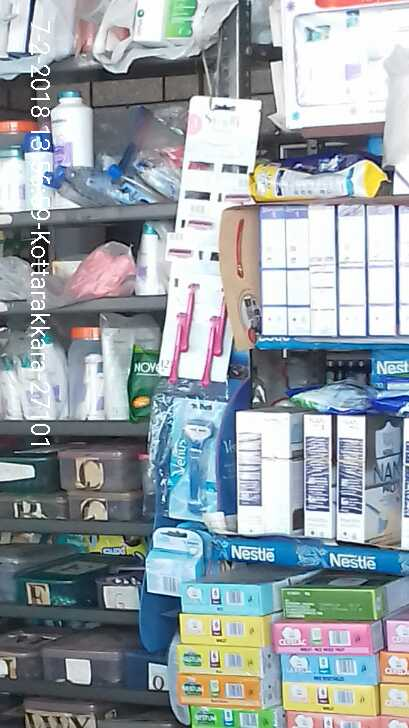venus: (171, 395, 215, 519)
